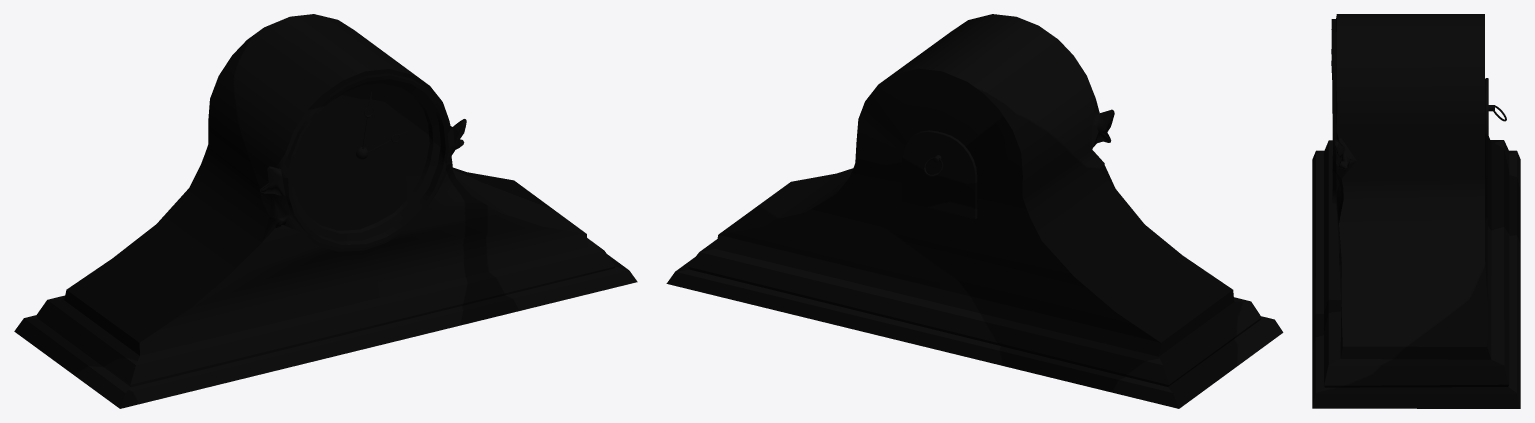
File: clock_low.fbx
3 renders of one model, left to right at view 1: azimuth 30°, elevation 25°; view 2: azimuth 150°, elevation 25°; view 3: azimuth 270°, elevation 25°, orthographic.
Parts seen in each view (by area): view 1: polySurface6; view 2: polySurface6, polySurface5; view 3: polySurface6, polySurface5.
Boxes of the visible parts, x1,y1,x2,y2 form: polySurface6: [14, 14, 637, 408]; polySurface6: [666, 14, 1283, 408]; polySurface5: [902, 130, 977, 219]; polySurface6: [1312, 14, 1520, 408]; polySurface5: [1485, 78, 1488, 178].
Size of the model in its own units: 89.01 by 43.6 by 31.45.
